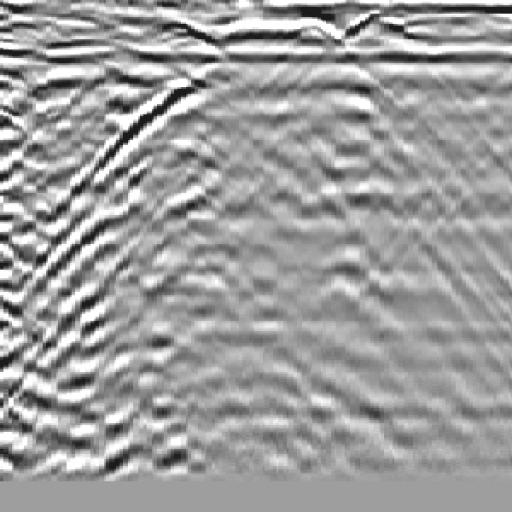metalic: (28, 48, 335, 391)
